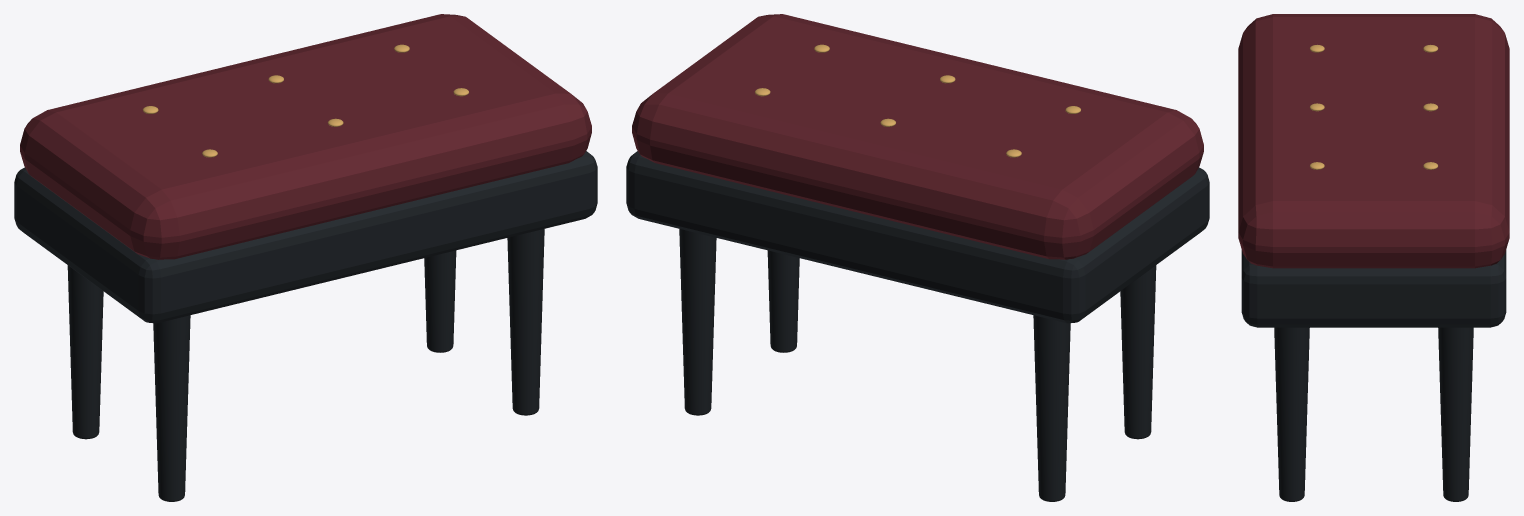
The model's file is piano-bench.glb.
3 views of the same model, side by side, from view 1: azimuth 30°, elevation 25°; view 2: azimuth 150°, elevation 25°; view 3: azimuth 270°, elevation 25° (orthographic). The views are drawn at different scales.
Visible parts, largest first — view 1: Piano bench cushion.001, Piano bench frame.001, Bench leg.004, Bench leg.006, Bench leg.005, Bench leg.007; view 2: Piano bench cushion.001, Piano bench frame.001, Bench leg.005, Bench leg.007, Bench leg.004, Bench leg.006; view 3: Piano bench cushion.001, Piano bench frame.001, Bench leg.006, Bench leg.007.
Part boxes in pixels (x1=…): Piano bench cushion.001: x1=20, y1=14, x2=591, y2=259; Piano bench frame.001: x1=14, y1=151, x2=597, y2=323; Bench leg.004: x1=153, y1=315, x2=190, y2=501; Bench leg.006: x1=507, y1=229, x2=544, y2=415; Bench leg.005: x1=67, y1=265, x2=103, y2=439; Bench leg.007: x1=424, y1=250, x2=456, y2=352; Piano bench cushion.001: x1=632, y1=14, x2=1203, y2=259; Piano bench frame.001: x1=626, y1=151, x2=1209, y2=323; Bench leg.005: x1=1033, y1=315, x2=1070, y2=501; Bench leg.007: x1=679, y1=229, x2=716, y2=415; Bench leg.004: x1=1120, y1=265, x2=1156, y2=439; Bench leg.006: x1=767, y1=250, x2=799, y2=352; Piano bench cushion.001: x1=1238, y1=14, x2=1509, y2=268; Piano bench frame.001: x1=1241, y1=250, x2=1506, y2=327; Bench leg.006: x1=1274, y1=327, x2=1309, y2=501; Bench leg.007: x1=1438, y1=327, x2=1473, y2=501.
Bounding box in the file's own units: 0.8 × 0.542 × 0.43.
